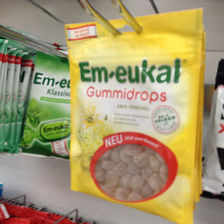candy: (66, 23, 197, 218)
